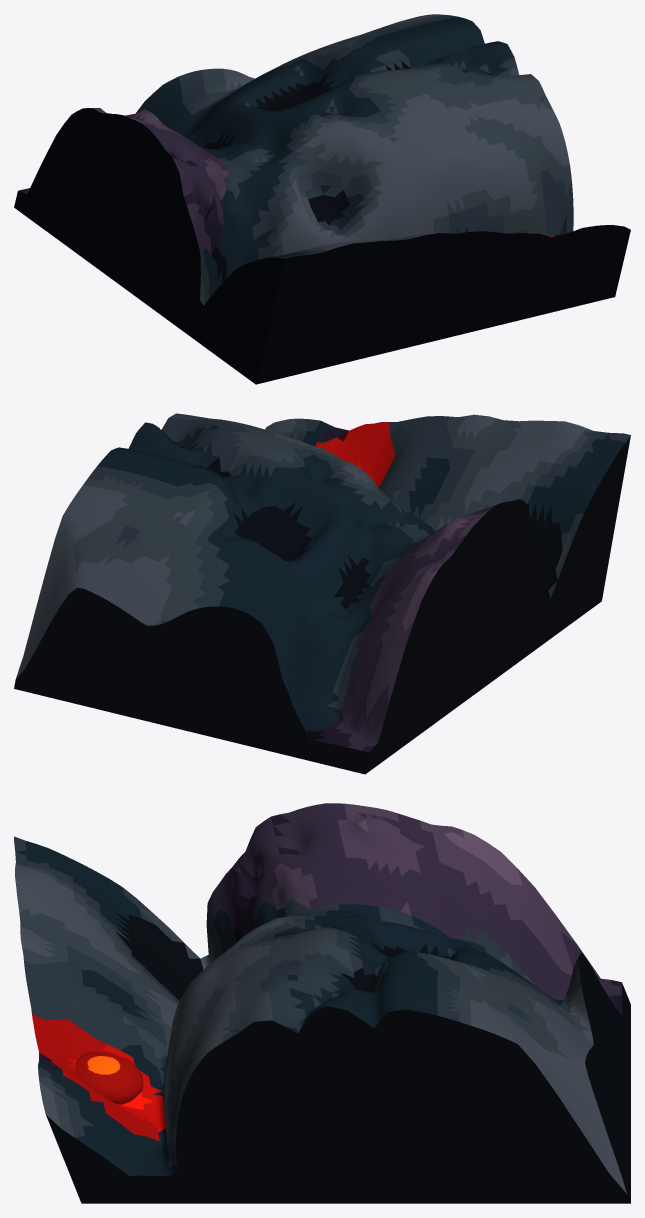
The model's file is gyges_maw_83.glb.
3 renders of one model, top to bottom at view 1: azimuth 30°, elevation 25°; view 2: azimuth 150°, elevation 25°; view 3: azimuth 270°, elevation 25°, orthographic. The views are drawn at different scales.
Visible parts, largest first — view 1: gyges_maw_83; view 2: gyges_maw_83; view 3: gyges_maw_83.
Part boxes in pixels (bbox=[...]): gyges_maw_83: bbox=[14, 14, 630, 384]; gyges_maw_83: bbox=[14, 413, 630, 774]; gyges_maw_83: bbox=[14, 803, 630, 1203].
Size of the model in its own units: 24 by 11.32 by 31.44.
